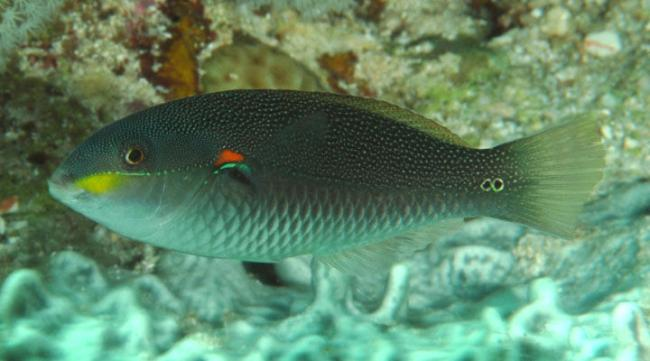fish: (46, 89, 606, 263)
